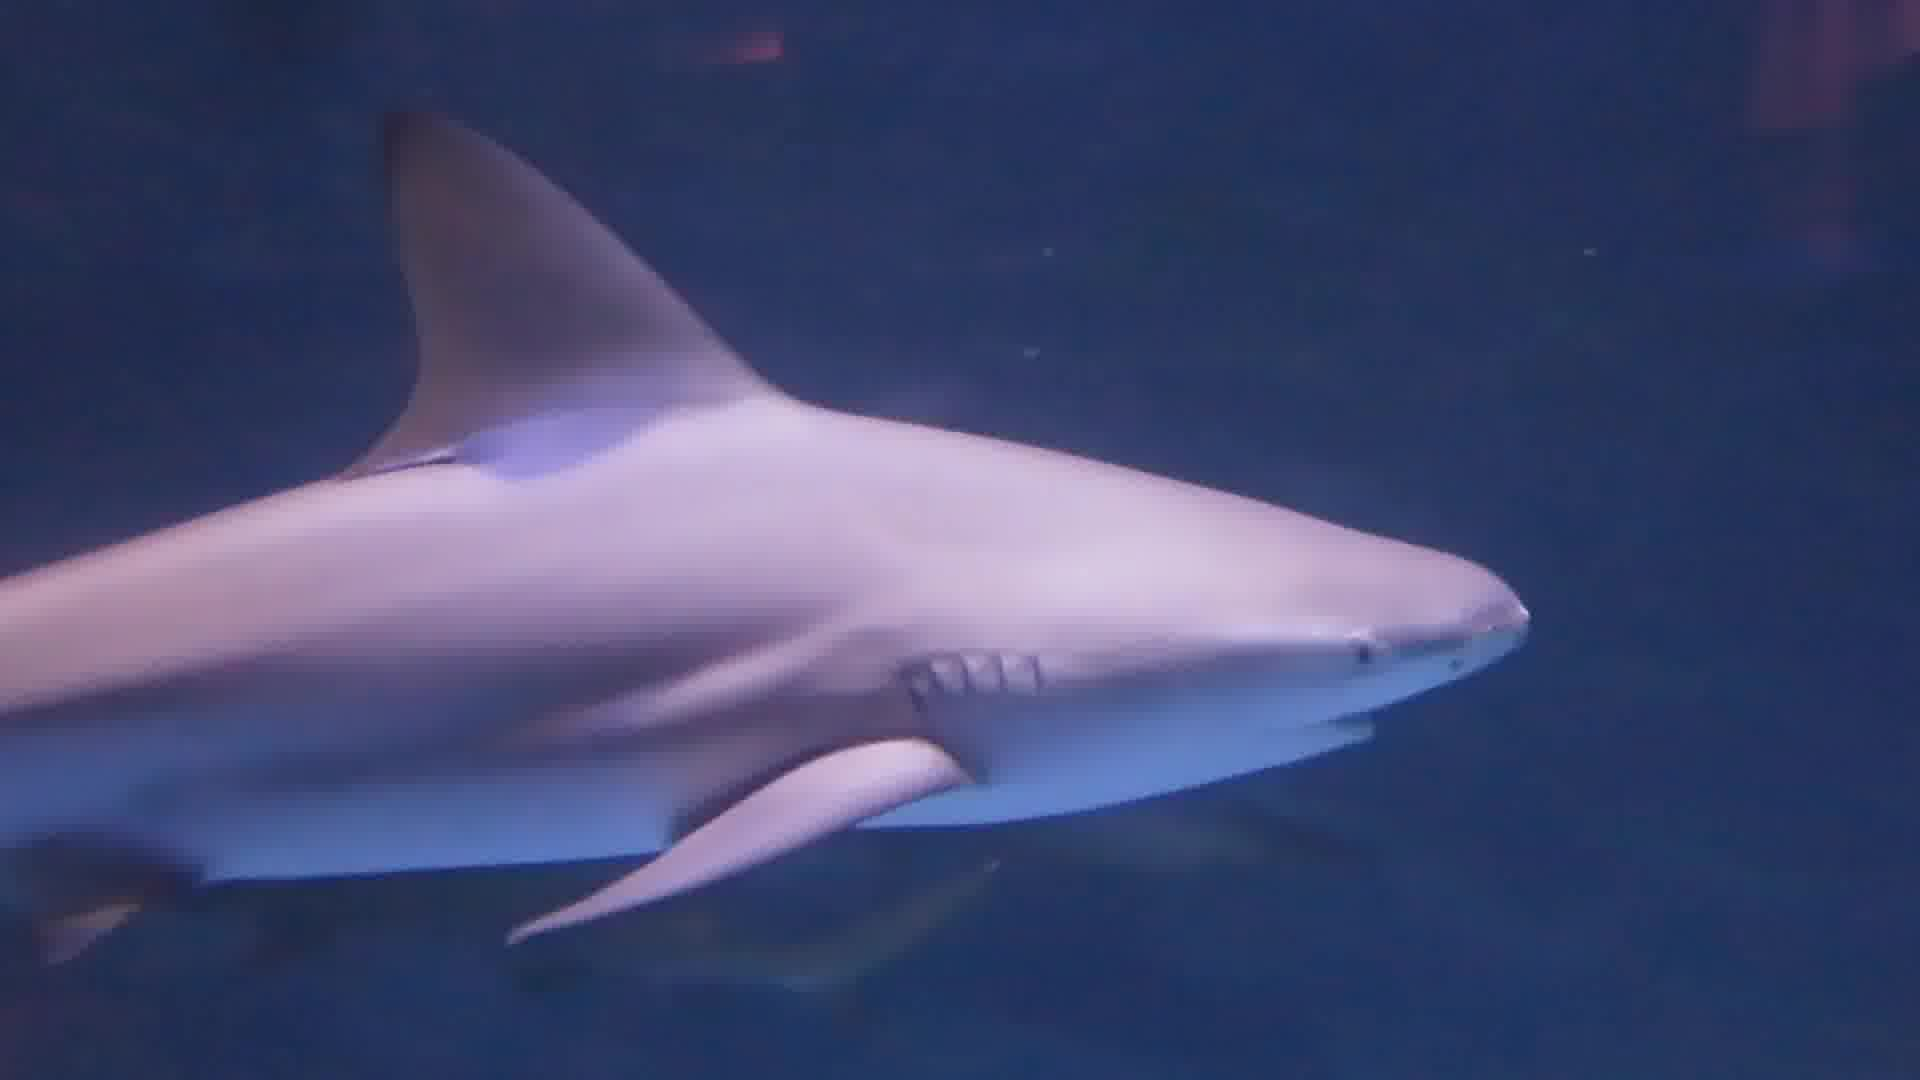Carcharhinus leucas: (11, 67, 1534, 940)
